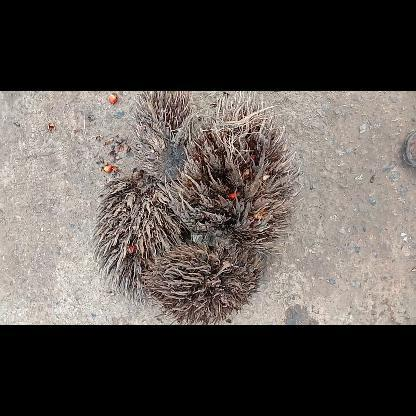Janjang kosong: (165, 90, 297, 254), (93, 169, 183, 305), (146, 242, 262, 324), (130, 90, 194, 182)
